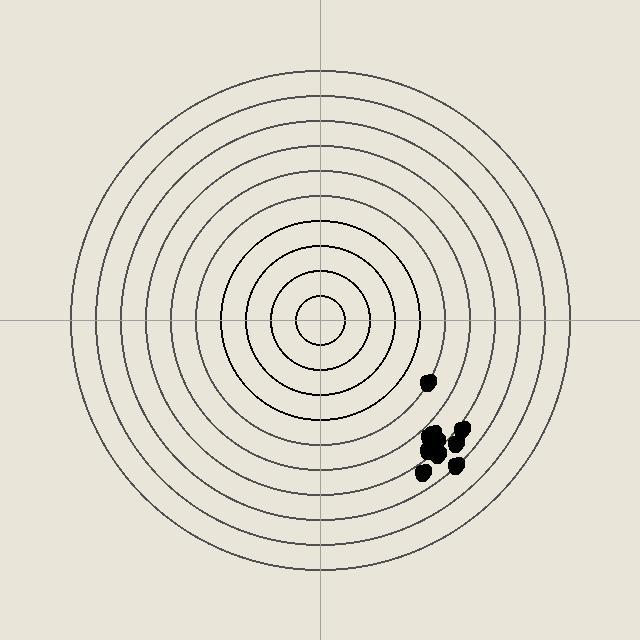good_group: (451, 419, 471, 439), (445, 455, 465, 475), (412, 462, 432, 482), (427, 444, 447, 464), (418, 426, 438, 446), (445, 433, 465, 453), (417, 372, 437, 392), (426, 431, 446, 451), (422, 423, 442, 443), (417, 440, 437, 460), (424, 436, 444, 456)
